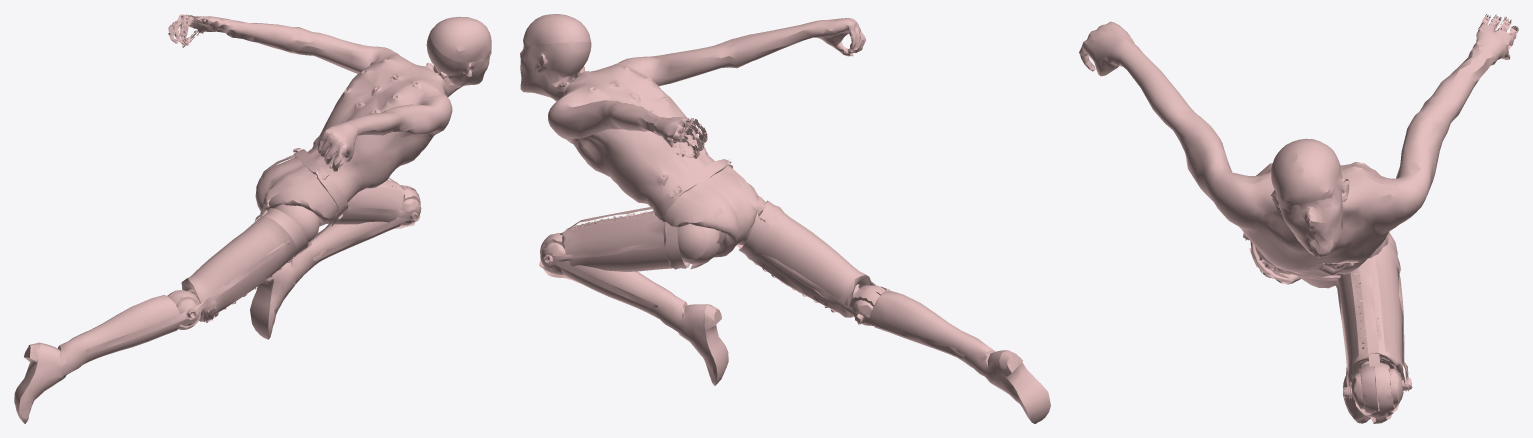
Rendered from SM_ProtoPinoccio_01_HJS.fbx.
The picture shows the model from 3 angles, left to right: view 1: azimuth 30°, elevation 25°; view 2: azimuth 150°, elevation 25°; view 3: azimuth 270°, elevation 25°; orthographic projection. The views are drawn at different scales.
Visible parts, largest first — view 1: SM_ProtoPinoccio_01_HJS; view 2: SM_ProtoPinoccio_01_HJS; view 3: SM_ProtoPinoccio_01_HJS.
Boxes of the visible parts, x1,y1,x2,y2 form: SM_ProtoPinoccio_01_HJS: (14, 14, 491, 423); SM_ProtoPinoccio_01_HJS: (520, 14, 1050, 423); SM_ProtoPinoccio_01_HJS: (1079, 14, 1518, 423).
Bounding box in the file's own units: 230 × 133 × 135.
